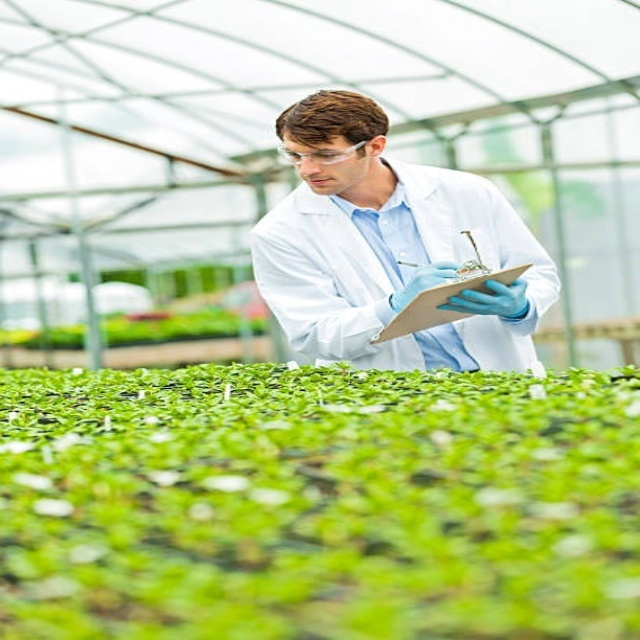Gafas: (278, 139, 370, 166)
Guantes: (383, 259, 461, 318), (438, 276, 533, 320)
Sin_mascara: (301, 173, 339, 195)
